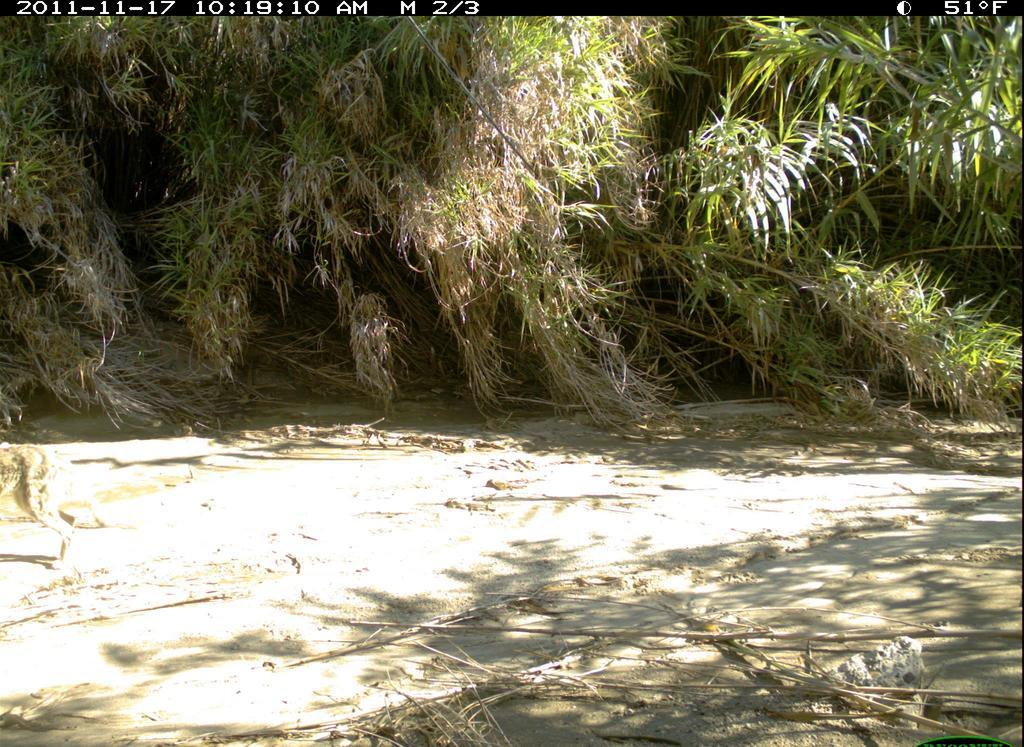coyote: (7, 436, 105, 578)
